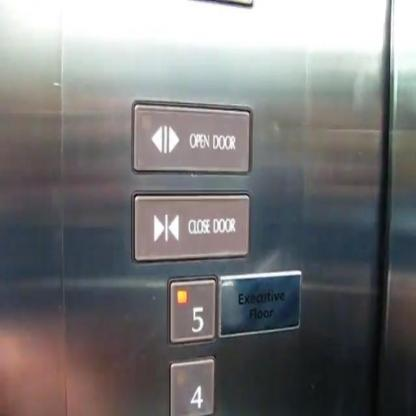4: (166, 351, 218, 415)
5: (164, 271, 219, 348)
close: (128, 187, 252, 265)
open: (128, 96, 255, 178)
